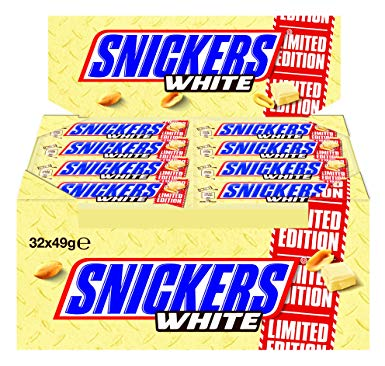snickers: (64, 262, 289, 315), (85, 33, 279, 78), (221, 182, 326, 196), (60, 182, 160, 196), (220, 160, 322, 173), (58, 161, 161, 173), (62, 141, 163, 153), (217, 122, 311, 134), (219, 141, 316, 152), (69, 122, 164, 133)
